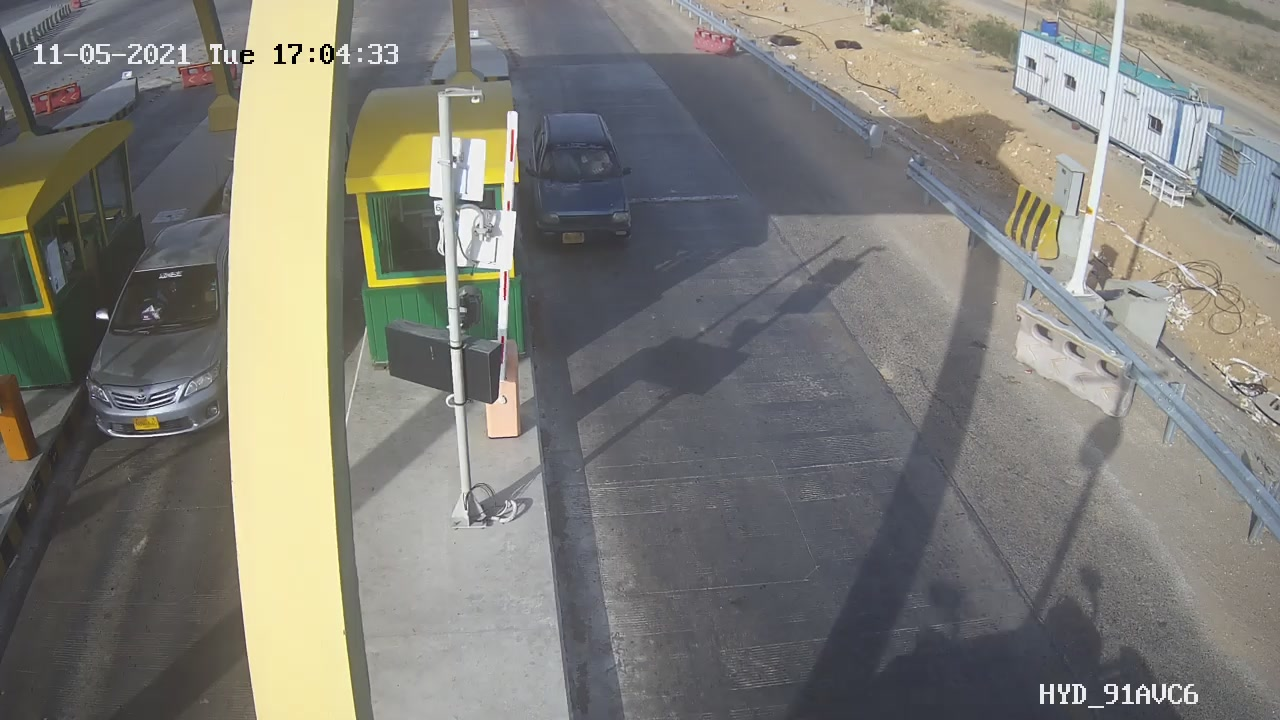F1: (509, 99, 663, 272)
